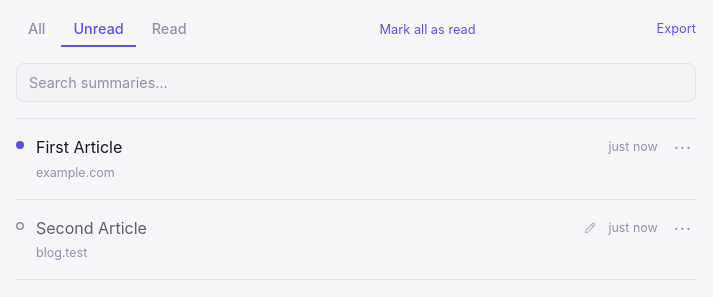
ReadingList › should show search empty message when search has no results
Check: the button "First Article" is shown, box x1=36 y1=135 x2=596 y2=161
Type "nonexistent" into the field with placeholder "Search summaries…" at {"x": 356, "y": 82}, box x1=16 y1=63 x2=696 y2=102
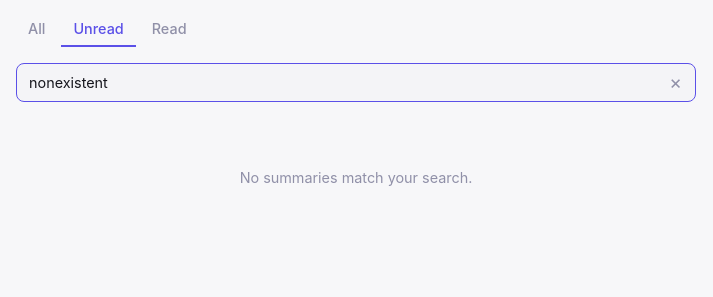
Check: the text "No summaries match your search." is shown, box x1=240 y1=169 x2=472 y2=186
